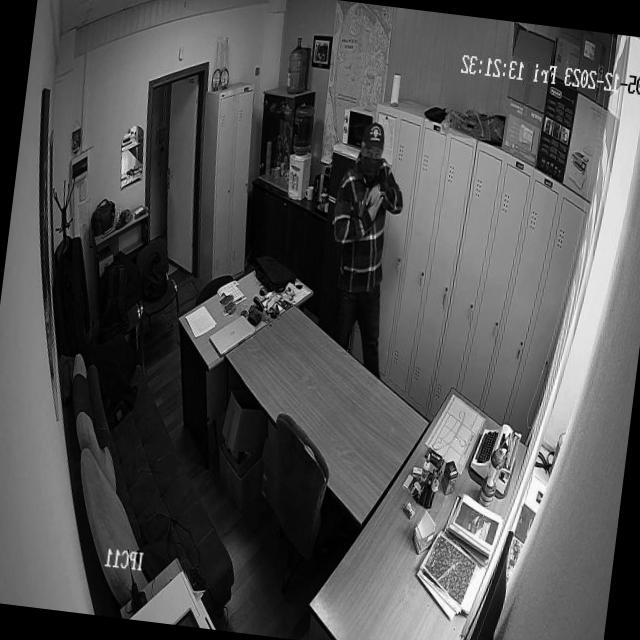gun: (356, 180, 374, 227)
person with a gun: (317, 115, 412, 338)
